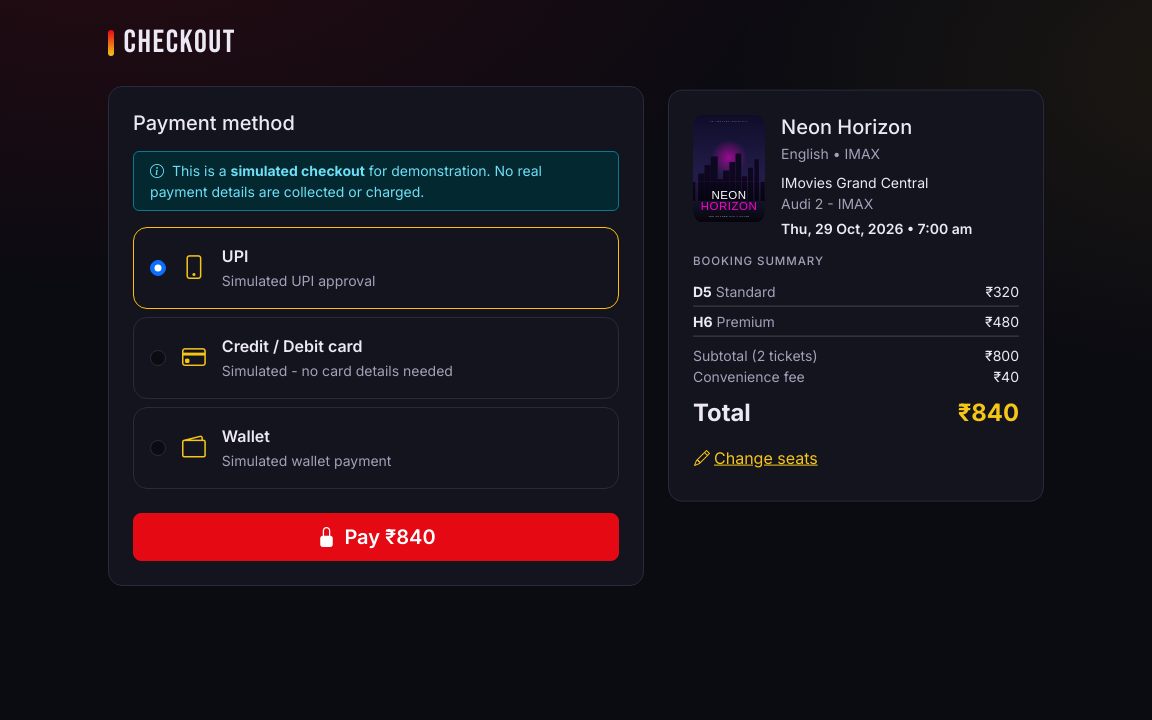
Scenario: Checkout › explains a seat conflict and offers to choose different seats
The image size is (1152, 720).
Click the button with test id "pay-button": coordinates (376, 537) [133,513,619,561]
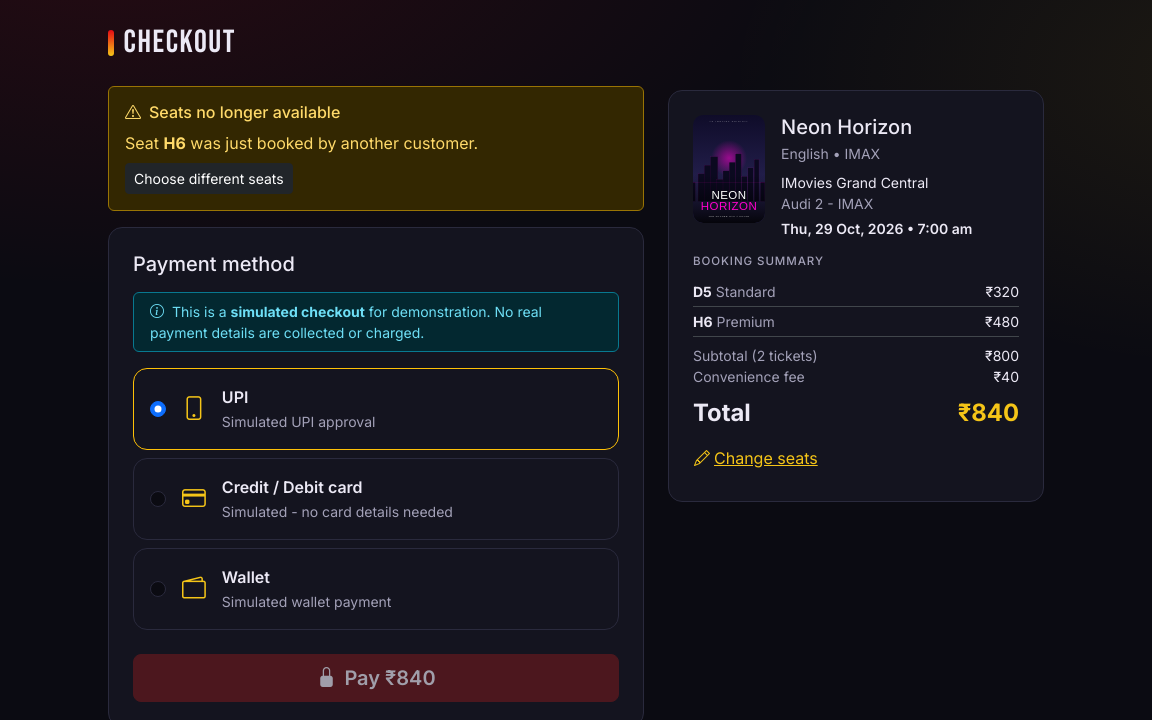
Now the message with test id "seat-conflict" shows "H6", box [164,133,186,153]
Now the button with test id "pay-button" is disabled, box [133,654,619,702]
